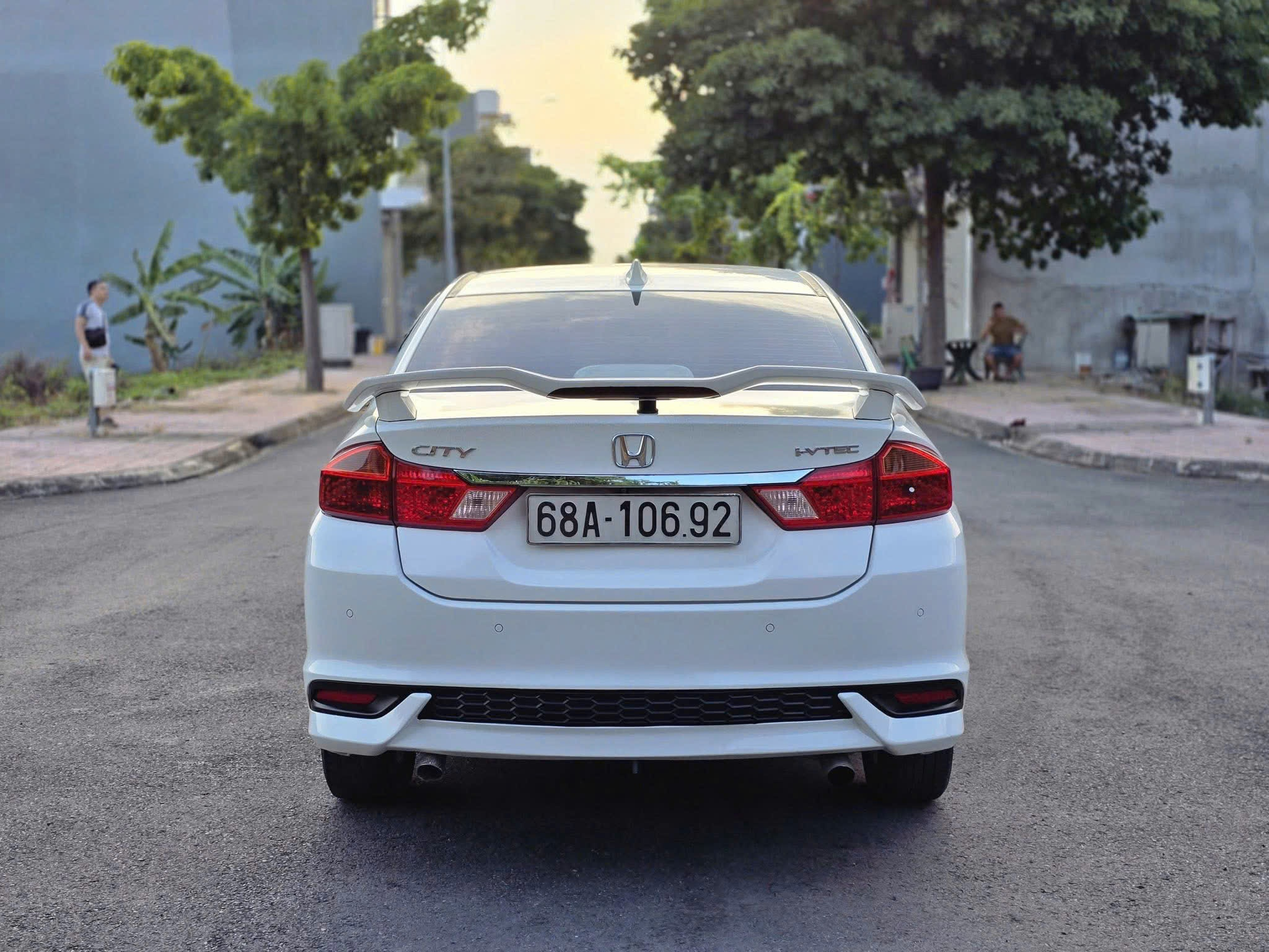Bien-so: (520, 466, 741, 532)
